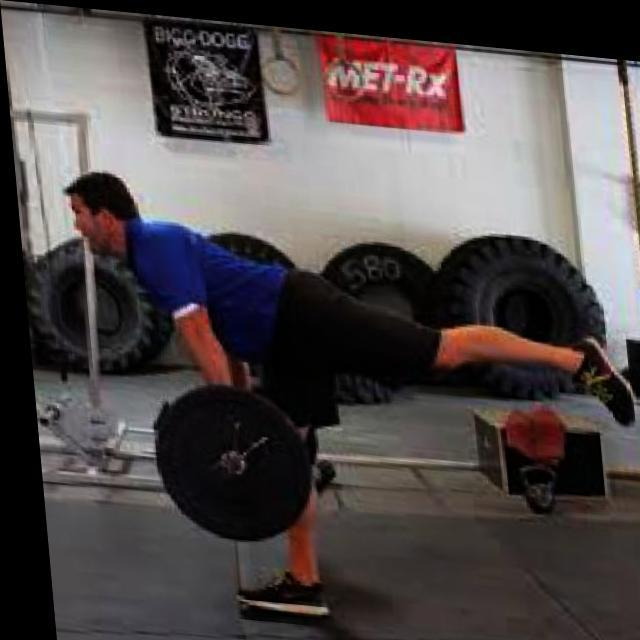barbell: (142, 371, 313, 550)
